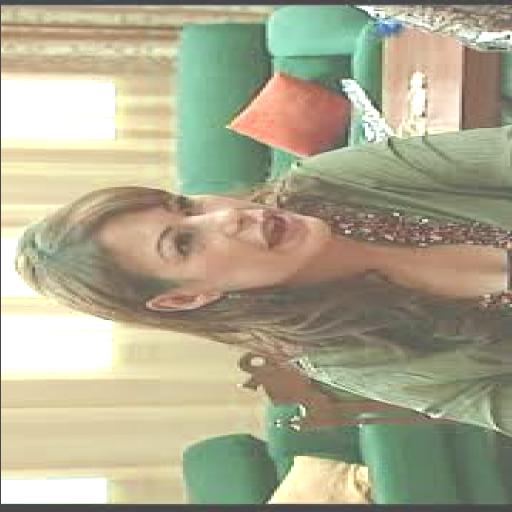zeineb: (14, 189, 327, 326)
